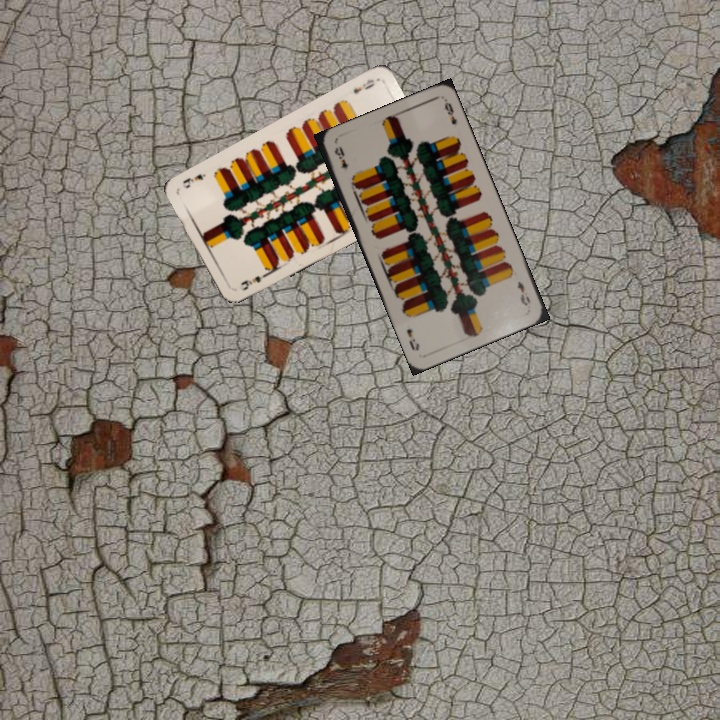E9: (237, 268, 271, 293), (513, 277, 533, 308), (330, 142, 351, 171), (349, 75, 377, 96)
